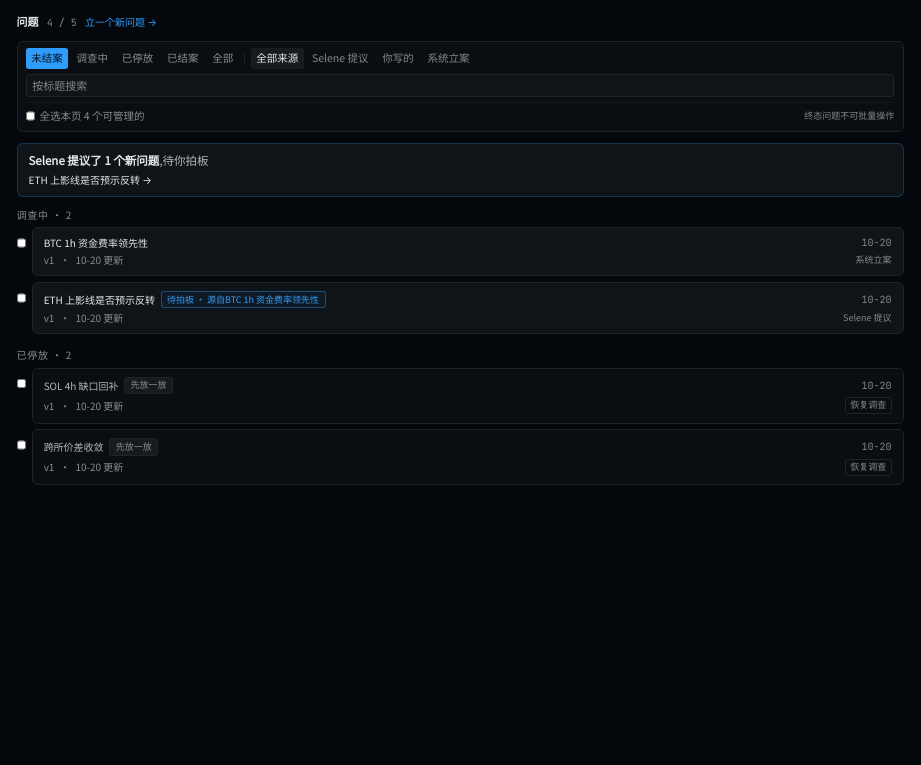
Test: QuestionListView 管理面 › 部分失败:进度照走完,失败明细列出,成功项才移出选择
expect the list with test id "open-questions" is shown: met, box [16,227,904,334]
Click the checkbox with test id "question-select-all" at (31, 116), box [26,112,35,121]
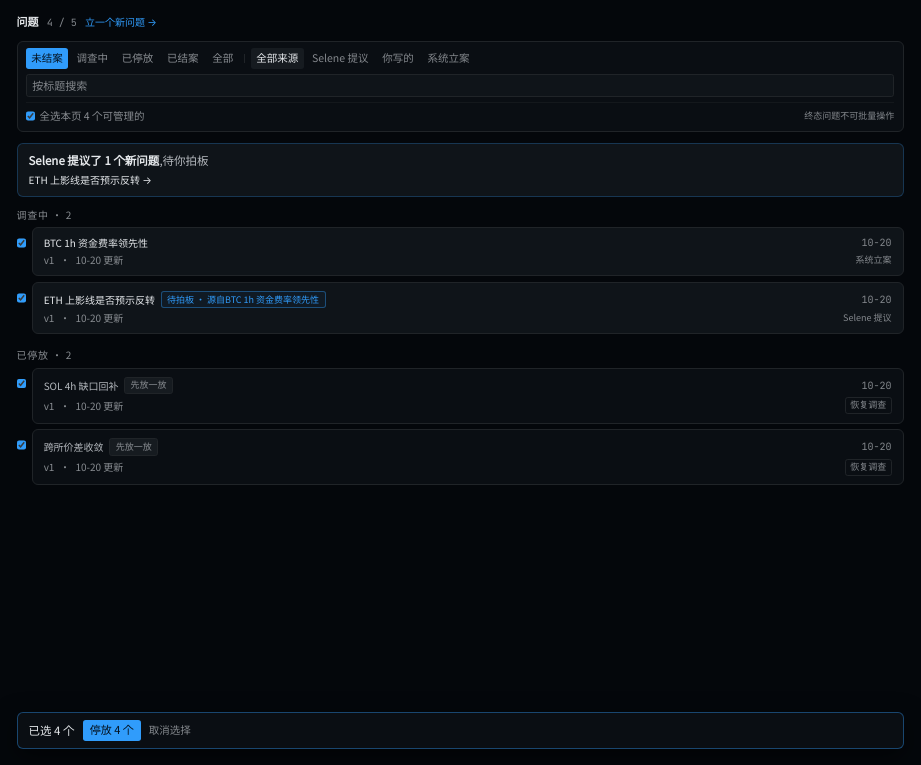
Click the button with test id "batch-park" at (112, 730), box [83,720,141,741]
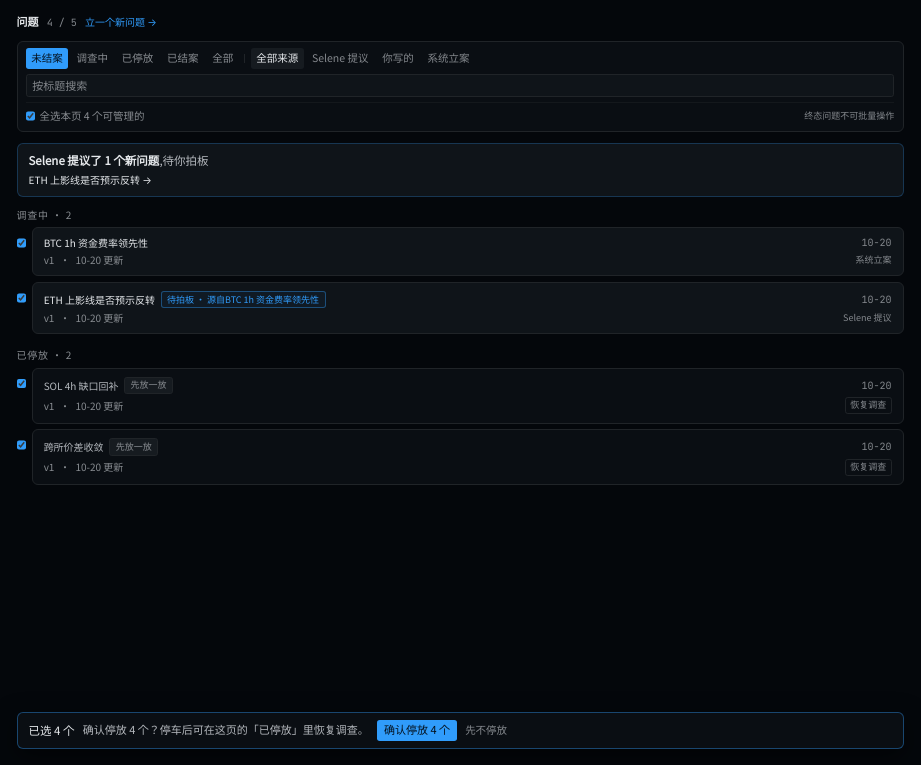
Click the button with test id "batch-park-confirm" at (417, 730), box [377,720,457,741]
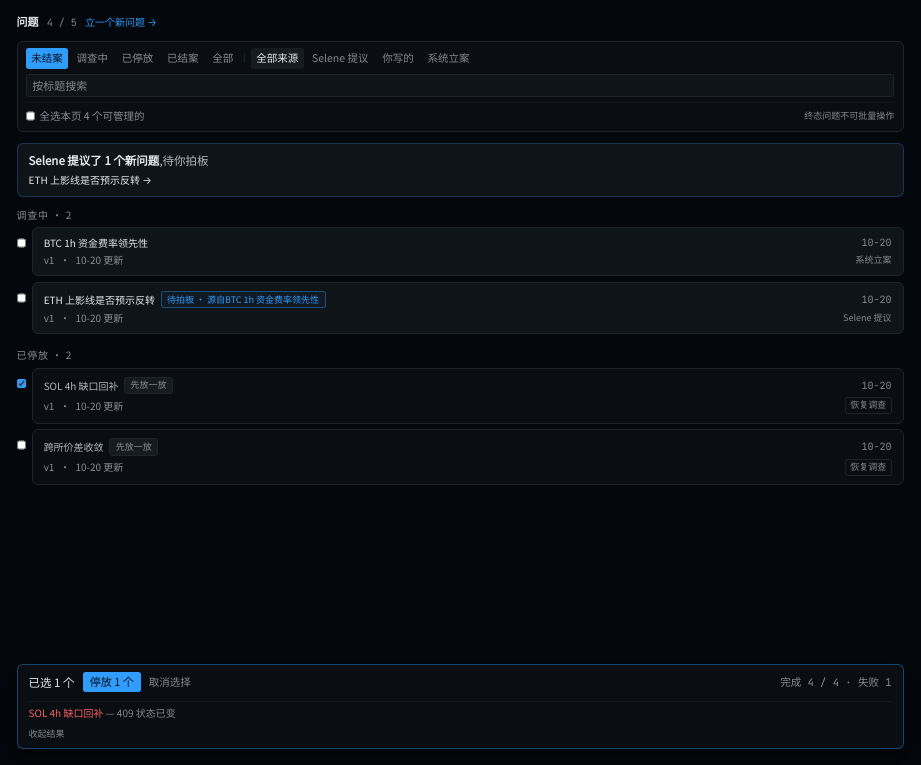
expect the text with test id "batch-progress" shows "完成 4 / 4": met, box [780,675,892,689]
expect the text with test id "batch-progress" shows "失败 1": met, box [839,675,892,689]
expect the list with test id "batch-failures" shows "SOL 4h 缺口回补": met, box [28,705,103,720]
